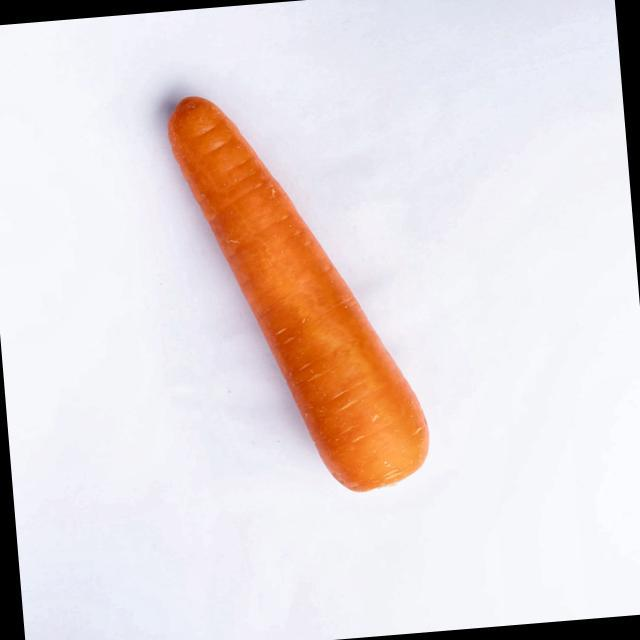carrot: (169, 96, 429, 491)
